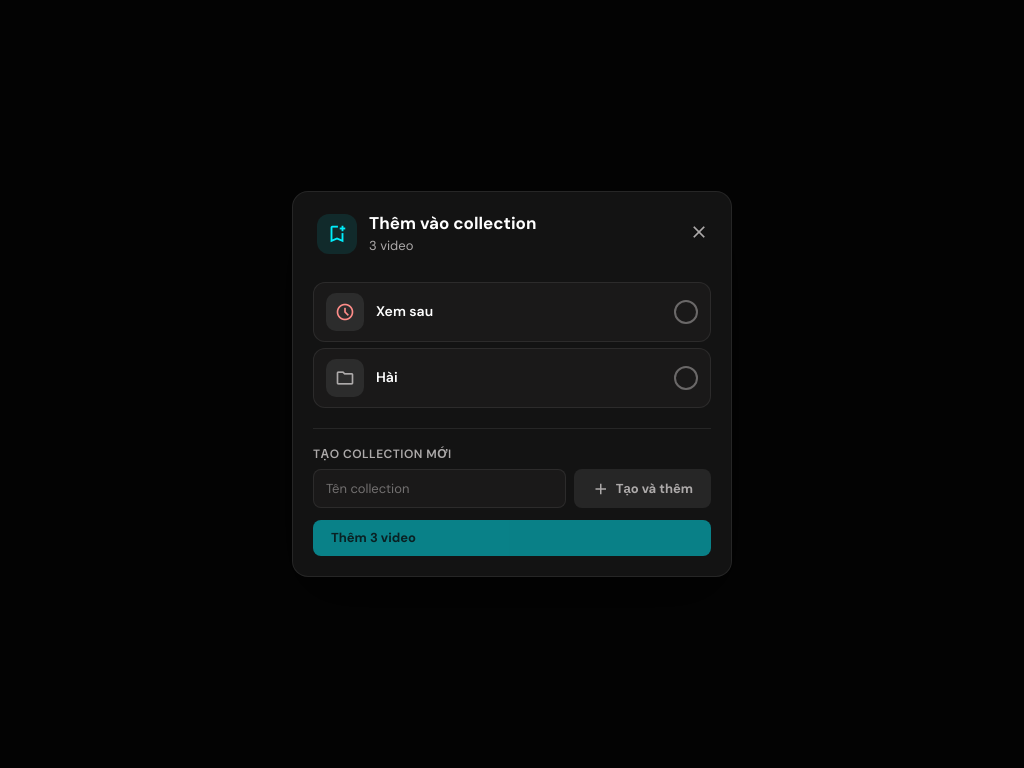
Test: BulkAddToCollectionModal › shows an error when create returns no id and does not add
Expected: the radio button labelled "Hài" is shown, 313,348 -> 711,408
Type "Mới" into the field with placeholder "Tên collection" at (439, 489), box 313,469 -> 566,508
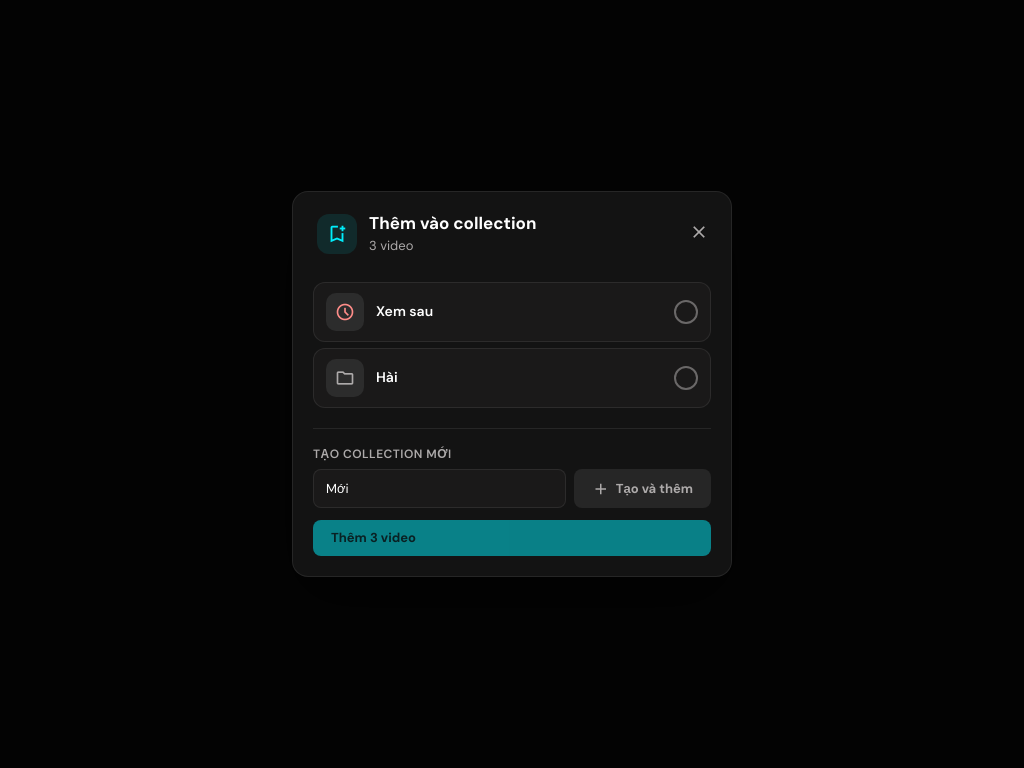
Click the button "Tạo và thêm" at (642, 489), box 574,469 -> 711,508
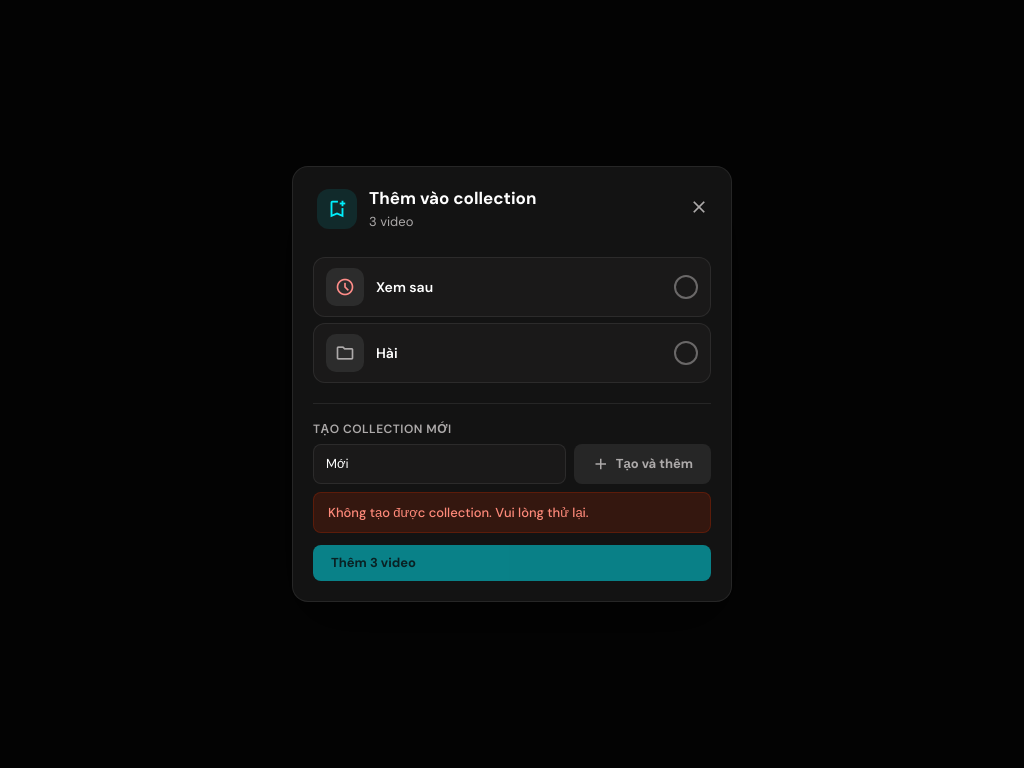
Result: the message shows "Không tạo được collection" at 328,504 -> 589,520
